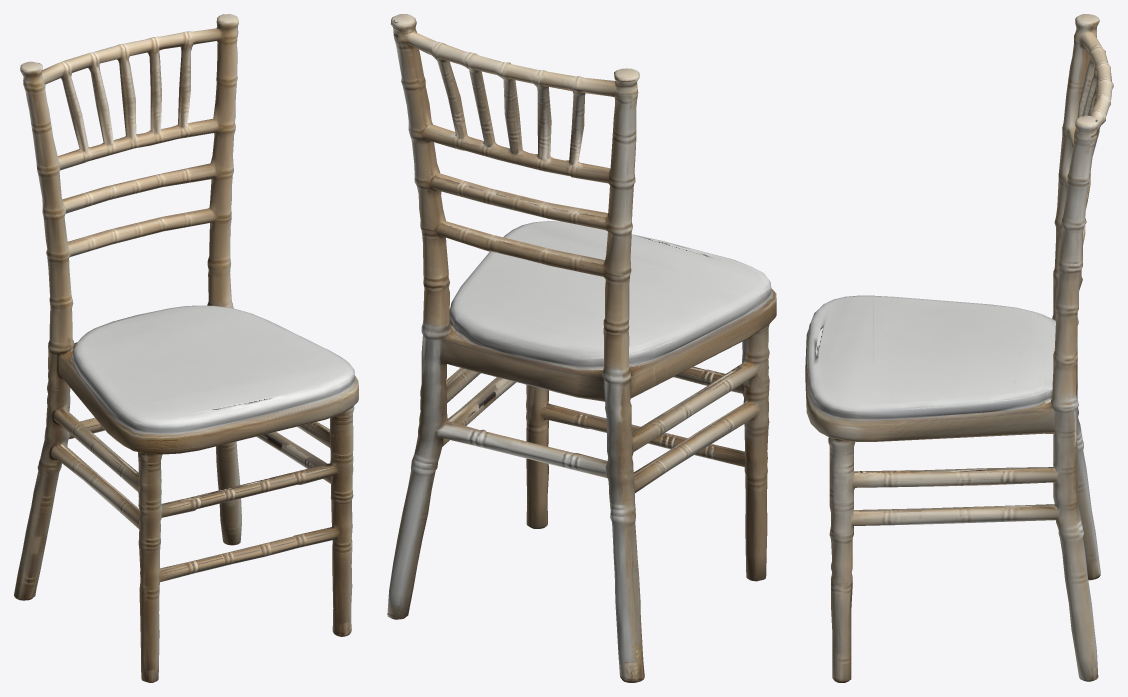
Rendered from CHIAVARI_Chair_Limew_0403043046_texture.glb.
3 renders of one model, left to right at view 1: azimuth 30°, elevation 25°; view 2: azimuth 150°, elevation 25°; view 3: azimuth 270°, elevation 25°, orthographic. The views are drawn at different scales.
Parts seen in each view (by area): view 1: Mesh_0.002; view 2: Mesh_0.002; view 3: Mesh_0.002.
Part boxes in pixels (x1=…): Mesh_0.002: x1=14, y1=14, x2=358, y2=682; Mesh_0.002: x1=387, y1=14, x2=776, y2=682; Mesh_0.002: x1=805, y1=14, x2=1113, y2=682.
Size of the model in its own units: 0.3704 by 0.8128 by 0.4039.
1 material, 1 textured.
